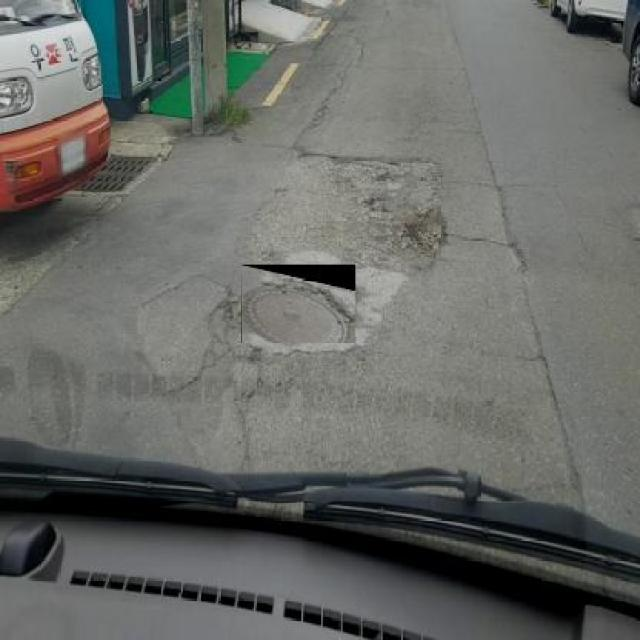Manhole: (240, 265, 356, 343)
Pothole: (394, 207, 457, 260), (498, 234, 532, 280), (362, 196, 392, 216)
